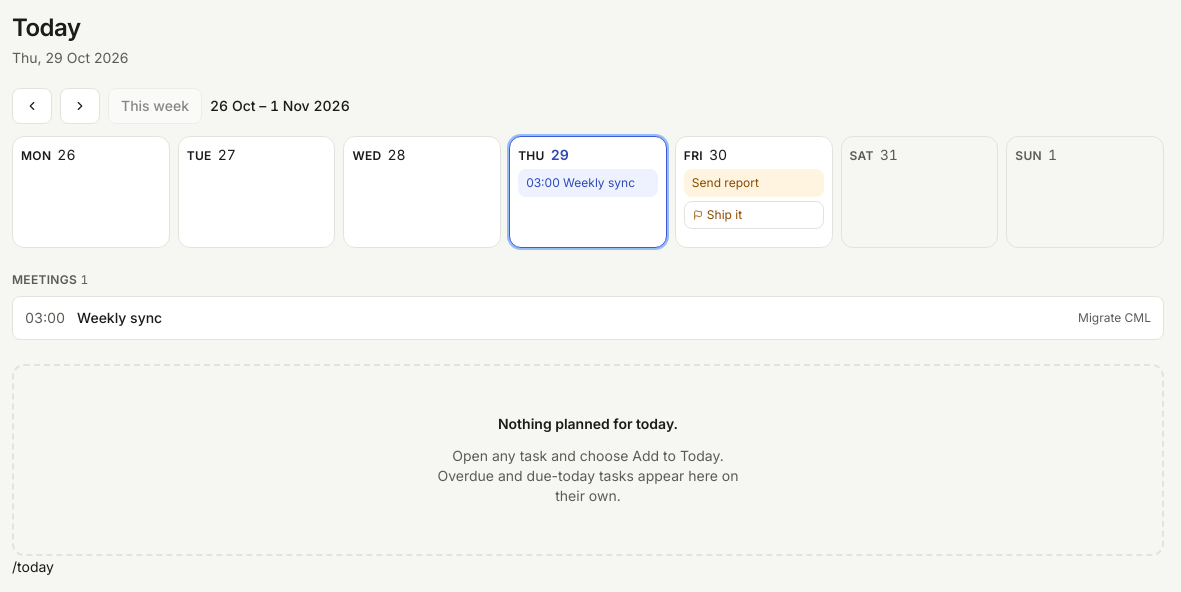
Test: Today page week view › says so when the selected day is empty
Step 1. Click the button "Tue 27" → click(257, 155), box [187, 145, 326, 165]
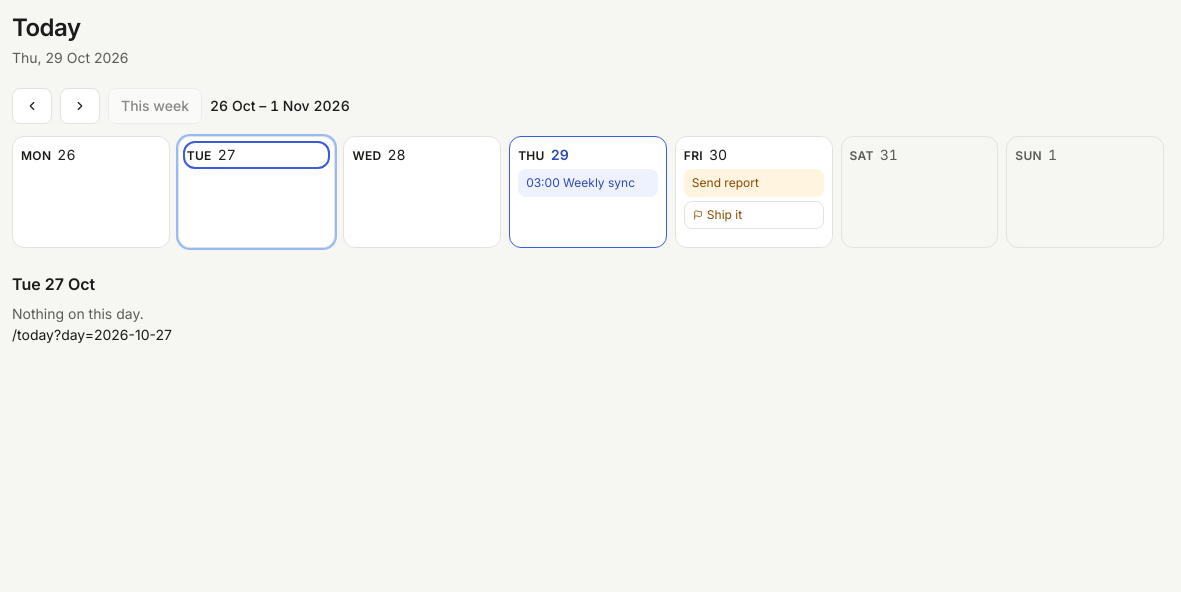
Now the text "Nothing on this day." is shown, box [12, 305, 144, 322]
